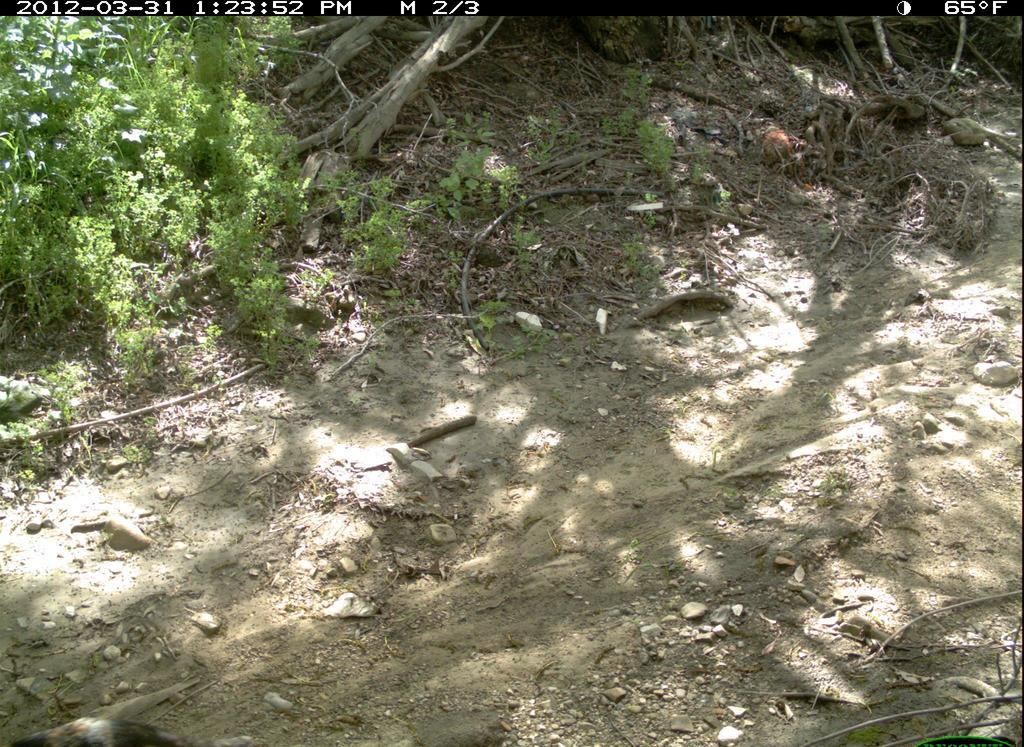cat: (3, 705, 263, 747)
